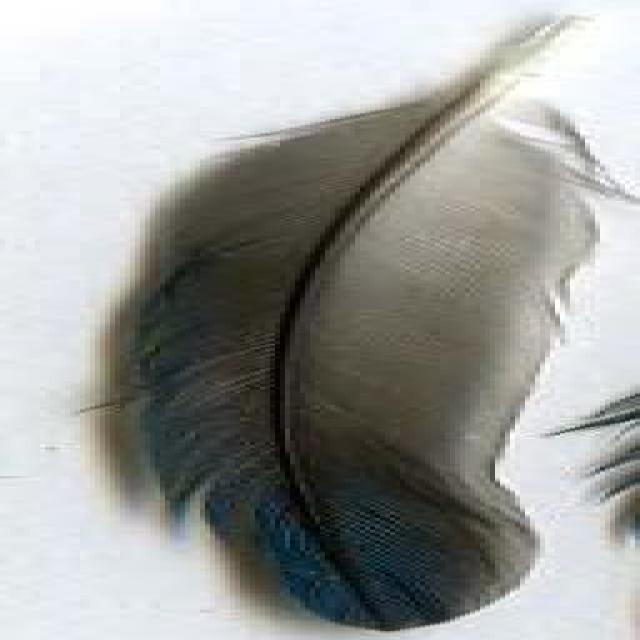feather: (75, 12, 640, 633)
